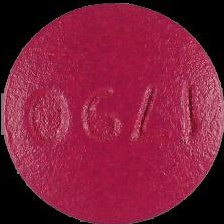61786-803: (0, 0, 224, 224)
